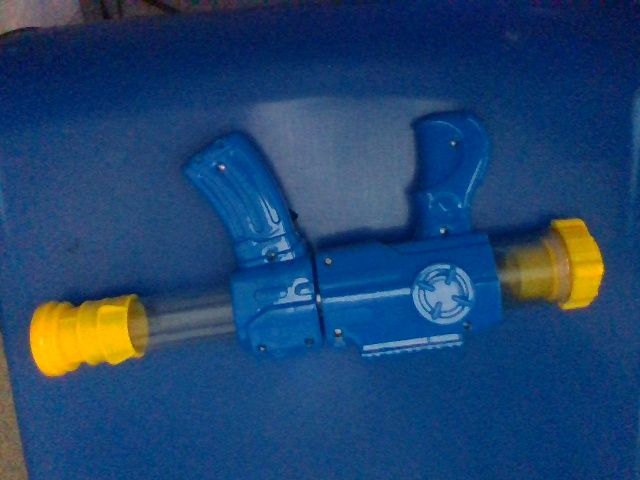screw hole: (265, 251, 278, 264), (439, 226, 450, 238), (216, 161, 227, 172), (461, 319, 471, 331), (304, 337, 315, 347), (323, 256, 334, 266), (333, 327, 343, 337), (257, 345, 267, 354), (450, 138, 459, 148)
toy: (30, 110, 605, 378)
